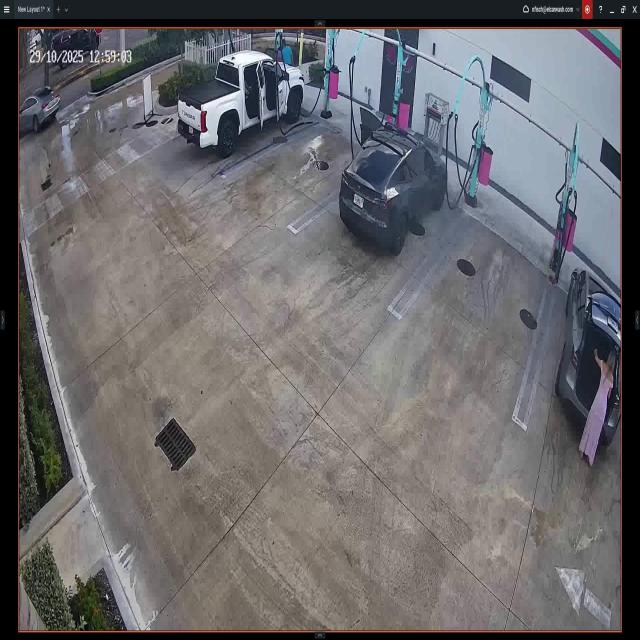Car: (338, 107, 448, 246), (178, 48, 304, 148), (561, 267, 621, 459), (20, 83, 59, 140)
